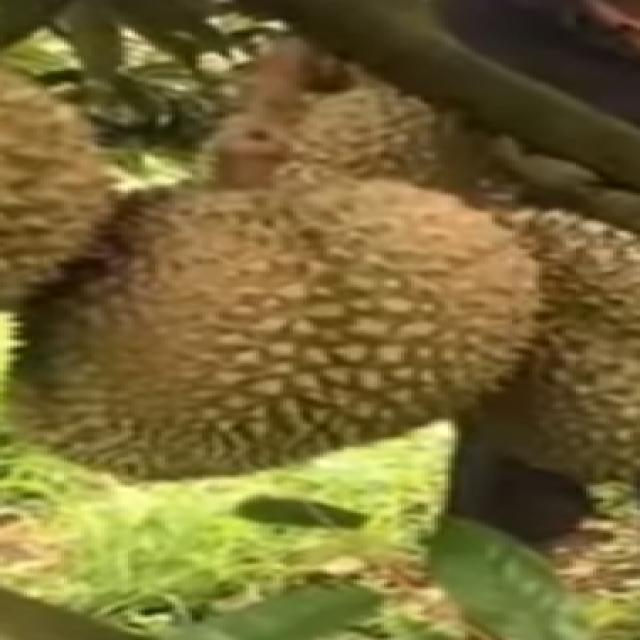mature: (12, 183, 539, 486)
